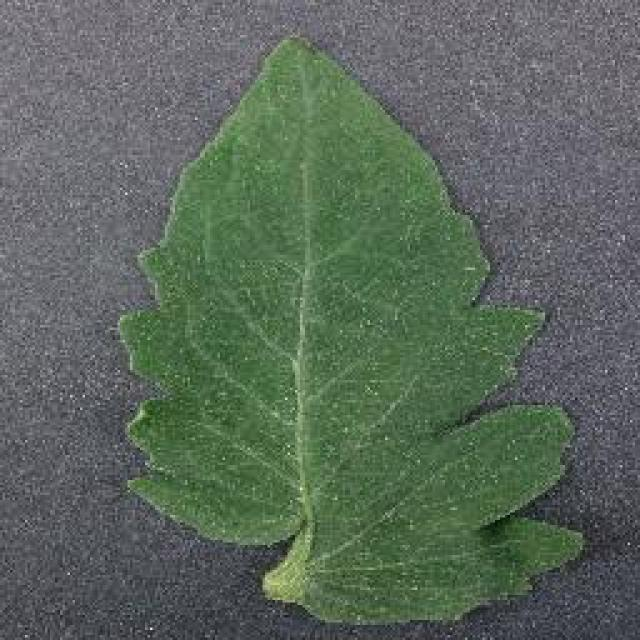Tomato healthy leaf: (121, 36, 586, 614)
